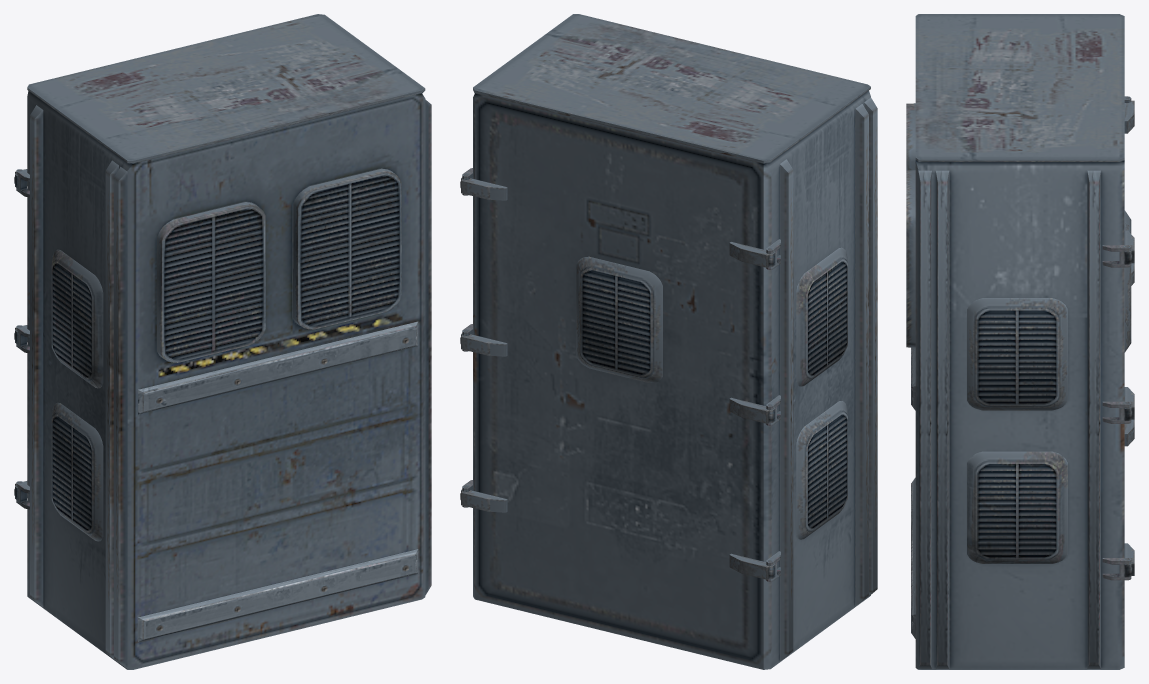
Rendered from Linebox.FBX.
3 renders of one model, left to right at view 1: azimuth 30°, elevation 25°; view 2: azimuth 150°, elevation 25°; view 3: azimuth 270°, elevation 25°, orthographic.
Parts seen in each view (by area): view 1: LineBox; view 2: LineBox; view 3: LineBox.
Part boxes in pixels (box(x1,y1,x2,y2)): LineBox: box(14, 14, 431, 669); LineBox: box(460, 14, 877, 669); LineBox: box(906, 14, 1134, 669).
Bounding box in the file's own units: 90.06 × 56.81 × 140.
1 material, 1 textured.
